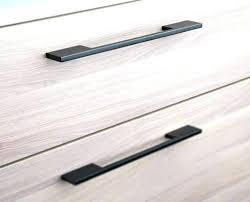cabinet_door: (1, 106, 250, 202), (1, 15, 250, 106)
handle: (46, 116, 208, 188), (37, 23, 207, 61)
